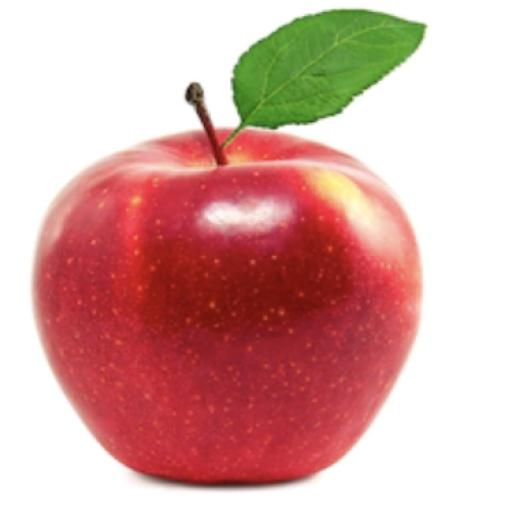apple: (33, 129, 421, 482)
